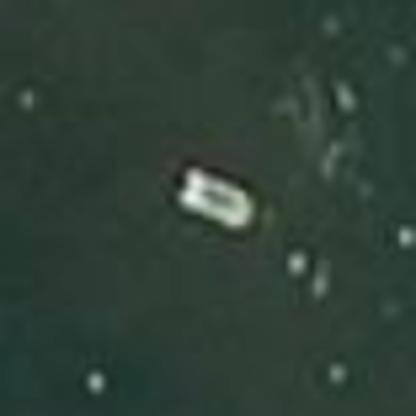ship: (154, 147, 270, 249)
